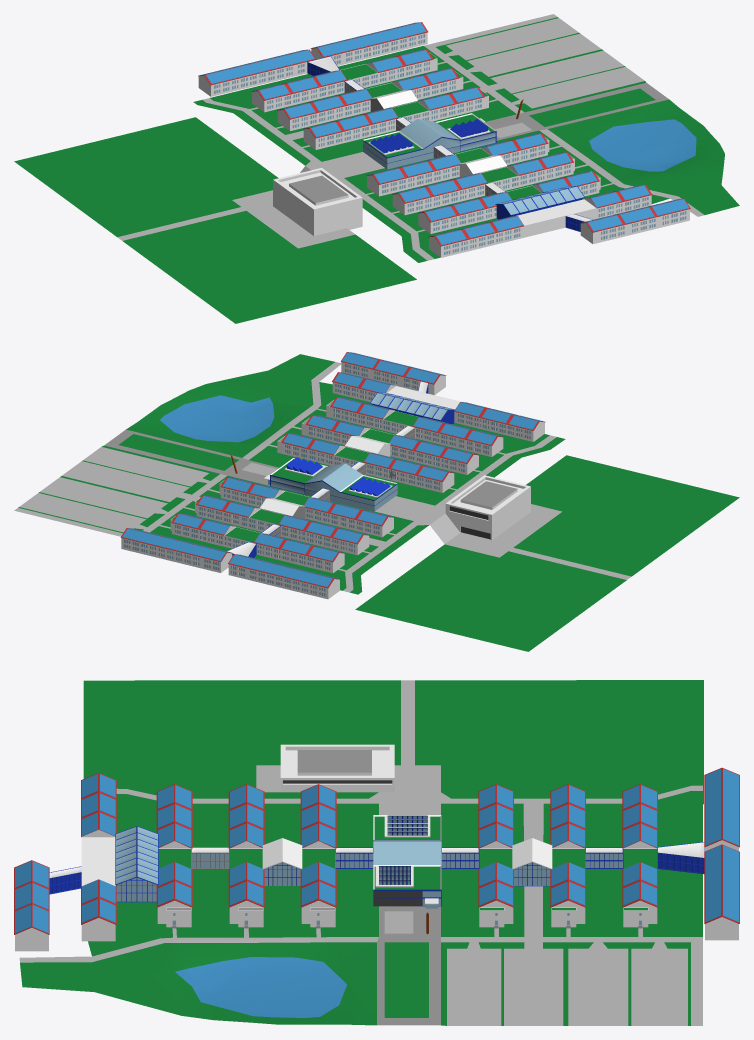
The model's file is Campus_LowPoly.fbx.
3 renders of one model, top to bottom at view 1: azimuth 30°, elevation 25°; view 2: azimuth 150°, elevation 25°; view 3: azimuth 270°, elevation 25°, orthographic. The views are drawn at different scales.
Parts seen in each view (by area): view 1: Gelände, Campus_Center, ZN, Boole_2_1, KomGeb, Boole_1_1, Korridor, Boole_2, BibDachfenster; view 2: Gelände, Campus_Center, ZN, KomGeb, Boole_2, Boole_1, Korridor, Boole_2_1; view 3: Gelände, Campus_Center, ZN, KomGeb, Korridor, Boole_2, Boole_2_1, Boole_1_1, Boole_1, KorridorOst, BibDachfenster, Korridor_1 (+1 smaller).
Part boxes in pixels (box(x1,y1,x2,y2)): Gelände: box(14, 14, 739, 323); Campus_Center: box(251, 49, 600, 233); ZN: box(198, 22, 496, 169); Boole_2_1: box(434, 184, 652, 257); KomGeb: box(273, 168, 362, 235); Boole_1_1: box(586, 198, 690, 243); Korridor: box(495, 186, 584, 219); Boole_2: box(428, 185, 643, 252); BibDachfenster: box(370, 133, 412, 153); Gelände: box(14, 354, 739, 651); Campus_Center: box(170, 397, 503, 573); ZN: box(120, 458, 397, 599); KomGeb: box(445, 475, 530, 540); Boole_2: box(332, 372, 539, 441); Boole_1: box(341, 352, 440, 395); Korridor: box(370, 392, 455, 424); Boole_2_1: box(340, 372, 545, 437); Gelände: box(19, 680, 703, 1025); Campus_Center: box(156, 784, 657, 928); ZN: box(373, 767, 739, 940); KomGeb: box(280, 744, 394, 792); Korridor: box(115, 826, 158, 902); Boole_2: box(98, 773, 116, 941); Boole_2_1: box(81, 773, 98, 941); Boole_1_1: box(14, 860, 31, 951); Boole_1: box(32, 860, 49, 951); KorridorOst: box(657, 842, 704, 873); BibDachfenster: box(387, 815, 427, 835); Korridor_1: box(49, 866, 81, 894).
Bounding box in the file's own units: 345 × 23.51 × 287.
